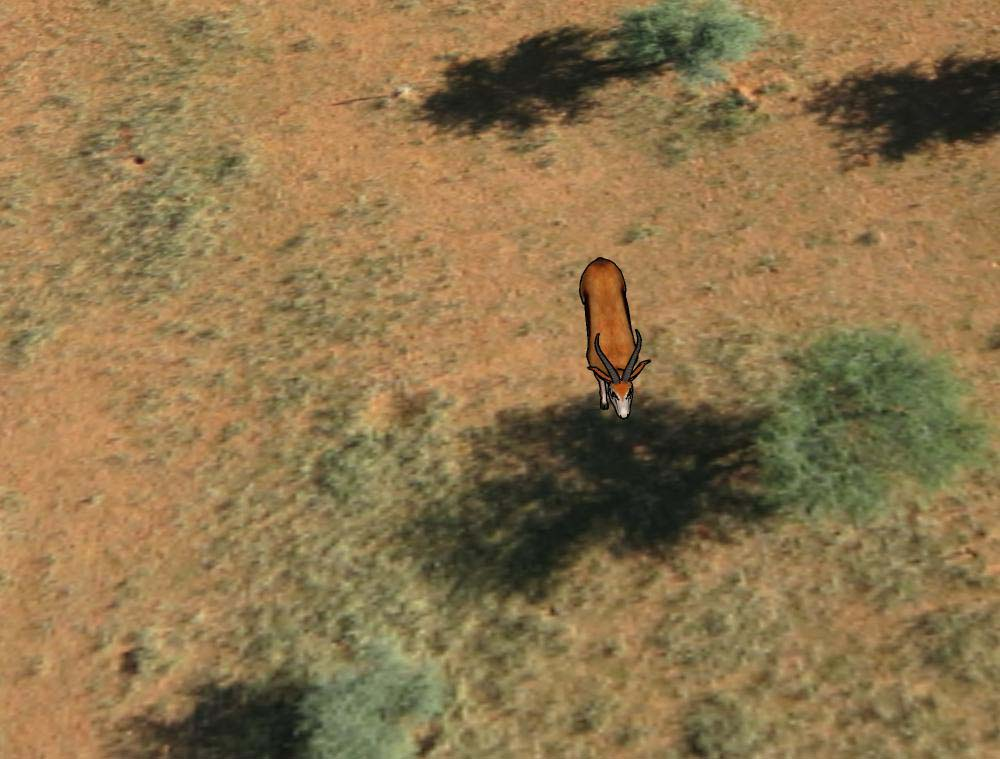springbok: (573, 248, 652, 423)
